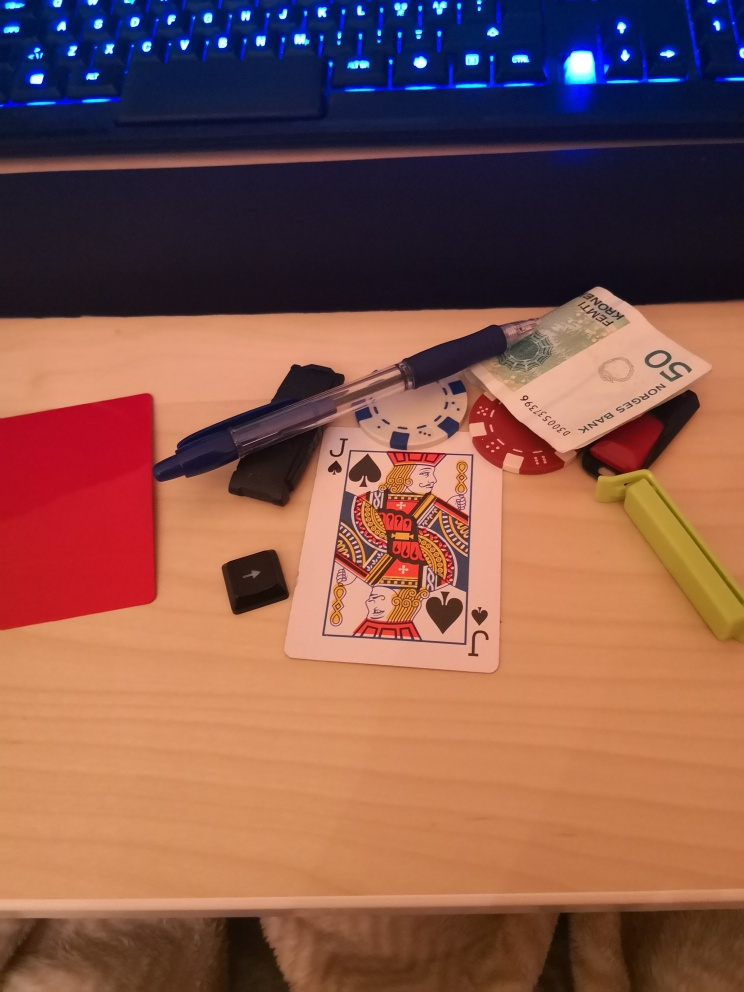jack: (285, 427, 503, 673)
